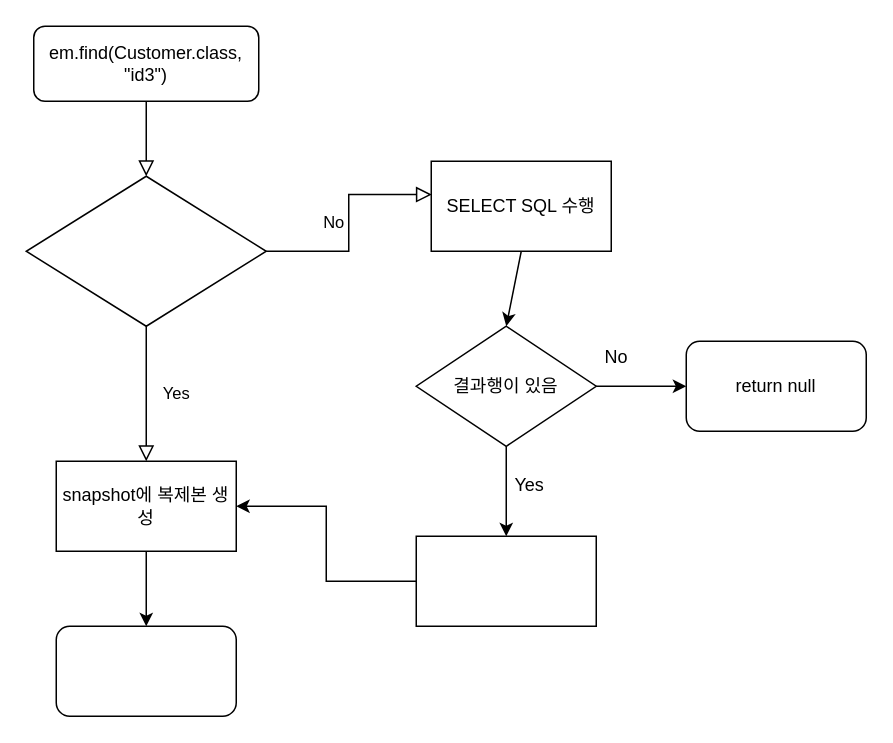
Image size: 893x743. Some labels were removed from this diagram. Each missing label, with the box of its shape:
(결과행을 바탕으로) 1차캐시에 entity object 생성: (415, 535, 596, 626)
1차 캐시에 "id3"에 해당하는 entity object 有: (25, 175, 266, 326)
결과값(entity object) return: (55, 625, 236, 716)
